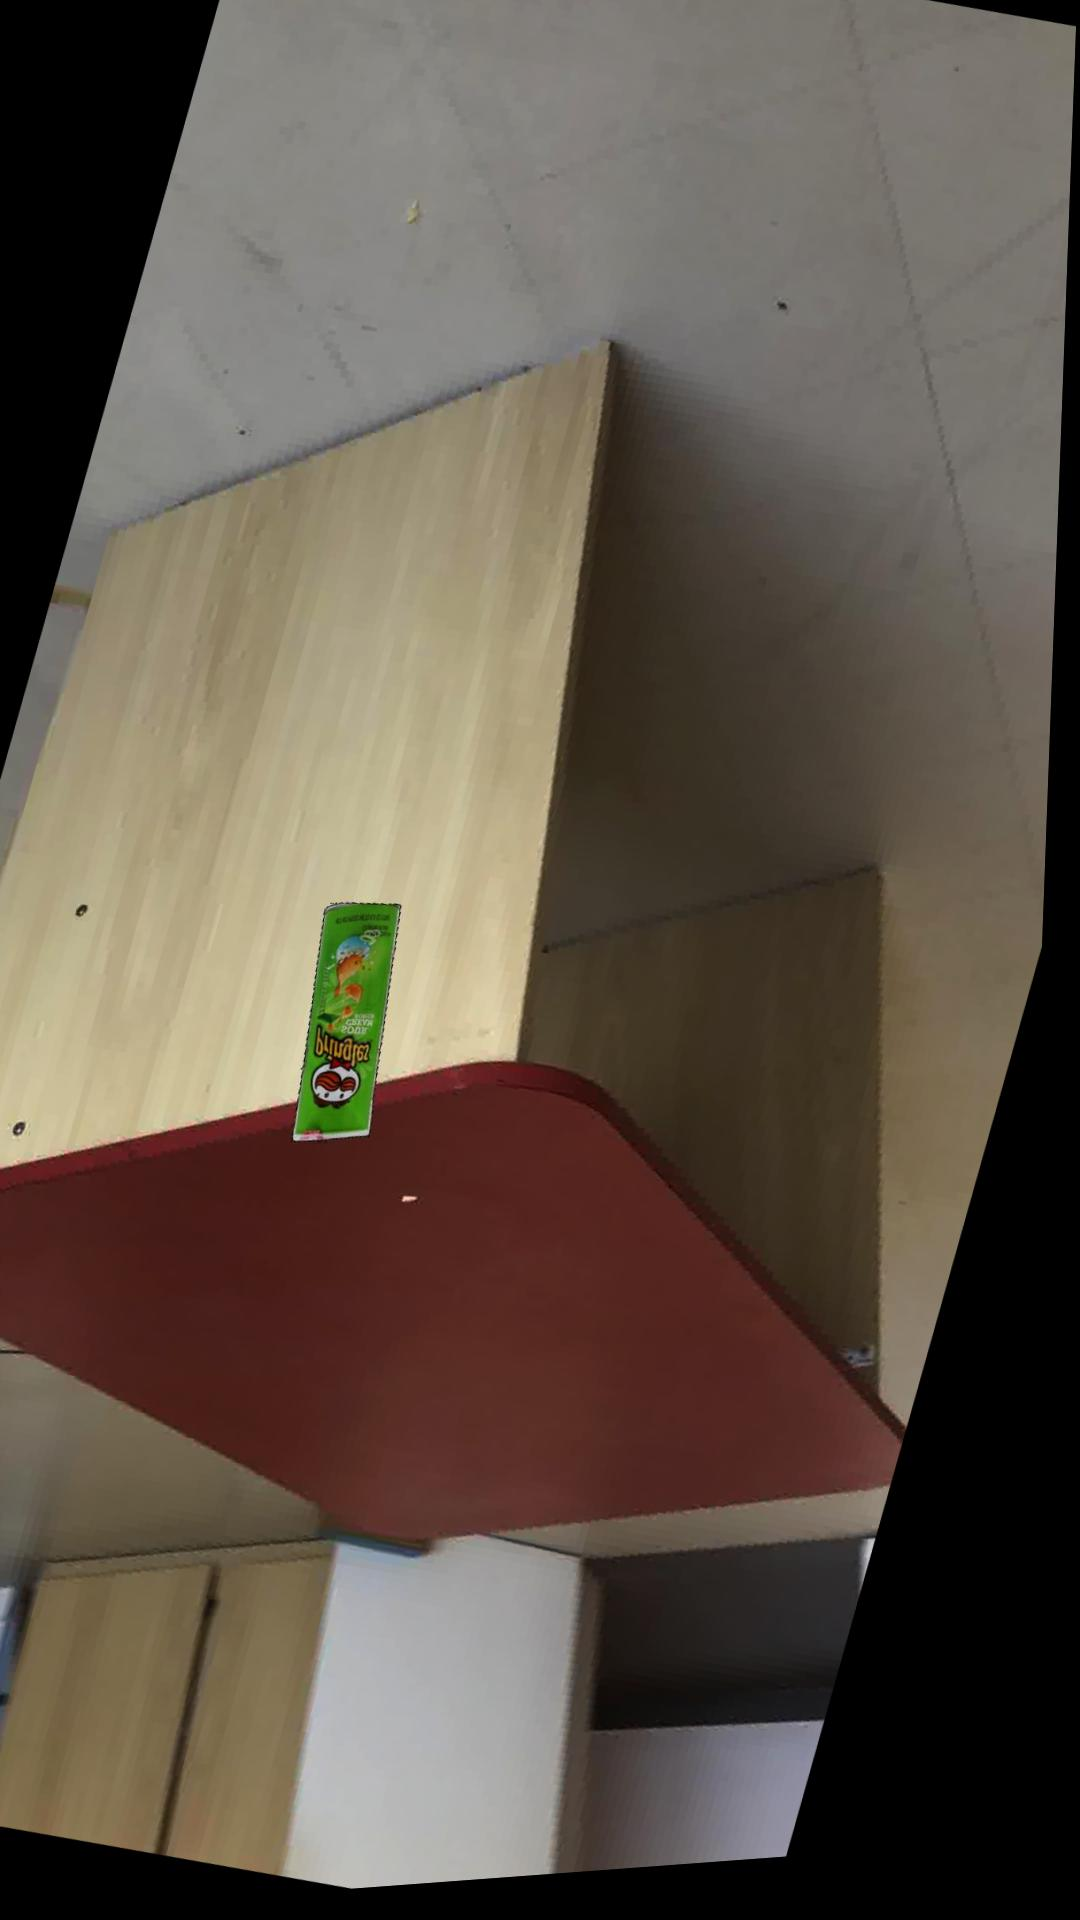pringles: (301, 909, 409, 1149)
